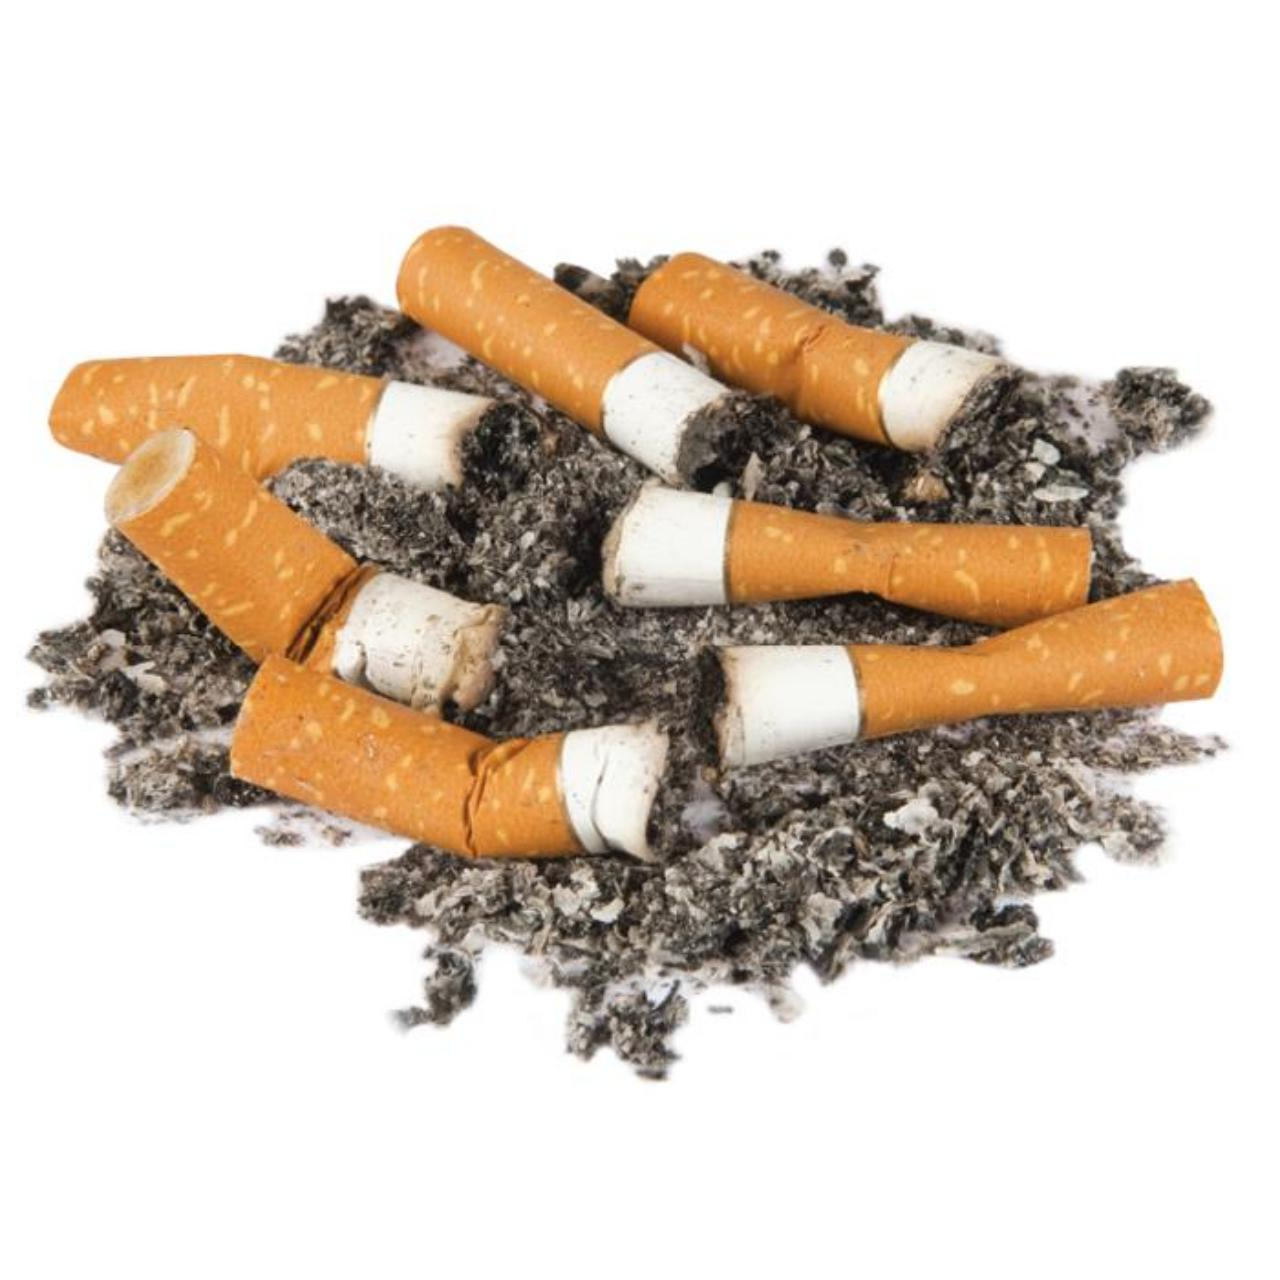cigarettes_butts: (105, 428, 510, 722), (700, 578, 1231, 774), (395, 225, 755, 493), (232, 654, 672, 859), (629, 252, 1019, 451), (601, 486, 1094, 631), (48, 355, 496, 506)
